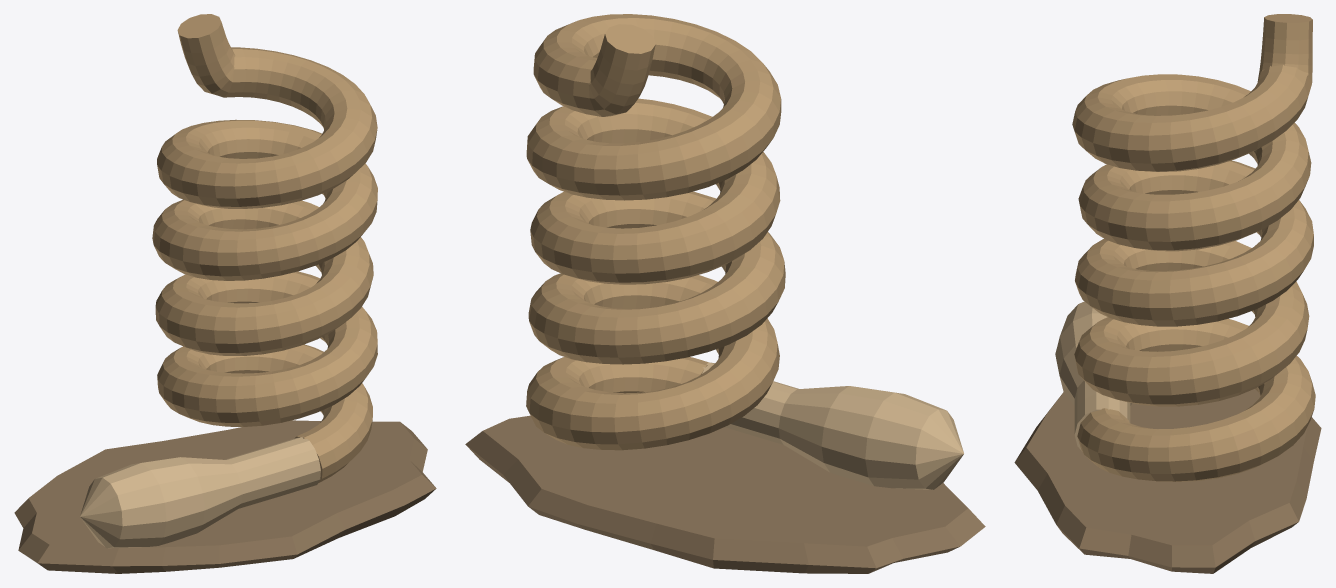
3 views of the same model, side by side, from view 1: azimuth 30°, elevation 25°; view 2: azimuth 150°, elevation 25°; view 3: azimuth 270°, elevation 25° (orthographic). The views are drawn at different scales.
Visible parts, largest first — view 1: solid_continuous_four_and_half_turn_burrow_cast, irregular_low_sediment_footing, continuous_lower_tunnel_and_expanded_terminal_chamber; view 2: solid_continuous_four_and_half_turn_burrow_cast, irregular_low_sediment_footing, continuous_lower_tunnel_and_expanded_terminal_chamber; view 3: solid_continuous_four_and_half_turn_burrow_cast, irregular_low_sediment_footing, continuous_lower_tunnel_and_expanded_terminal_chamber.
Part boxes in pixels (x1=…): solid_continuous_four_and_half_turn_burrow_cast: x1=152, y1=14, x2=377, y2=482; irregular_low_sediment_footing: x1=14, y1=420, x2=436, y2=573; continuous_lower_tunnel_and_expanded_terminal_chamber: x1=80, y1=437, x2=320, y2=548; solid_continuous_four_and_half_turn_burrow_cast: x1=526, y1=14, x2=785, y2=450; irregular_low_sediment_footing: x1=465, y1=415, x2=985, y2=573; continuous_lower_tunnel_and_expanded_terminal_chamber: x1=702, y1=362, x2=963, y2=489; solid_continuous_four_and_half_turn_burrow_cast: x1=1072, y1=14, x2=1315, y2=481; irregular_low_sediment_footing: x1=1014, y1=389, x2=1321, y2=573; continuous_lower_tunnel_and_expanded_terminal_chamber: x1=1055, y1=301, x2=1132, y2=451.
Size of the model in its own units: 1.86 by 1.88 by 1.11.
